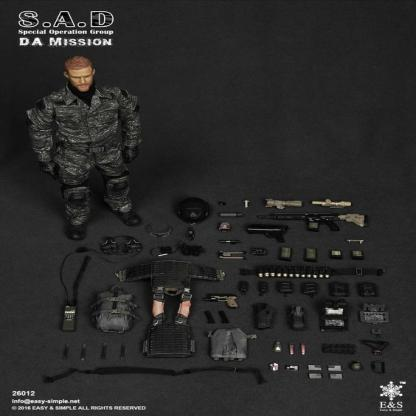Grenade: (351, 360, 366, 373)
Gun: (258, 212, 369, 234)
Pistol: (202, 292, 241, 310)
